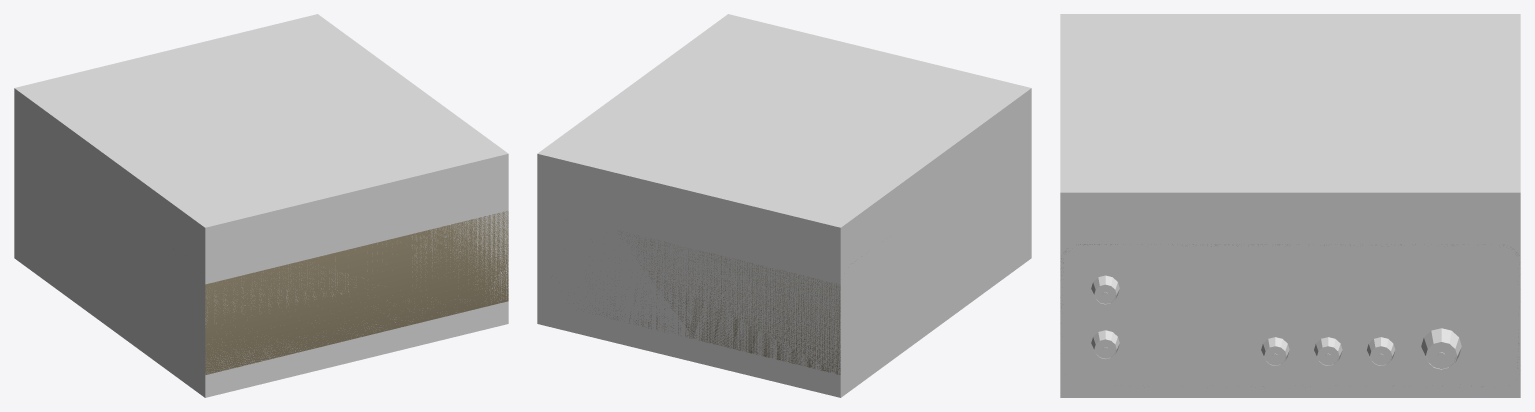
Rendered from Radio1.fbx.
The picture shows the model from 3 angles, left to right: view 1: azimuth 30°, elevation 25°; view 2: azimuth 150°, elevation 25°; view 3: azimuth 270°, elevation 25°; orthographic projection. The views are drawn at different scales.
Parts seen in each view (by area): view 1: Radio1_HNMO1, Radio1_Cover; view 2: Radio1_HNMO1, Radio1_Cover; view 3: Radio1_HNMO1, Radio1_Amplifiers.
Part boxes in pixels (<box>): Radio1_HNMO1: <box>14,14,508,397</box>; Radio1_Cover: <box>205,211,508,374</box>; Radio1_HNMO1: <box>537,14,1031,397</box>; Radio1_Cover: <box>598,231,840,374</box>; Radio1_HNMO1: <box>1060,14,1520,397</box>; Radio1_Amplifiers: <box>1091,275,1461,370</box>.
Size of what is drawn, in the model's own units: 118 by 60 by 122.
